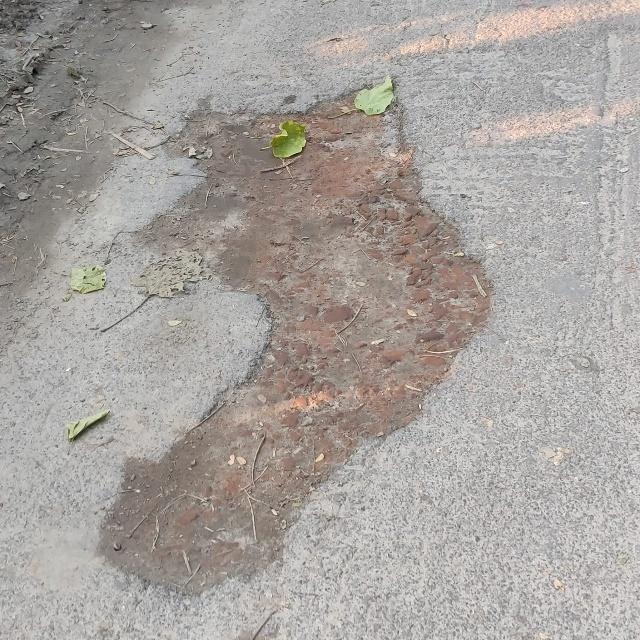Surface Erosion: (114, 57, 552, 604)
